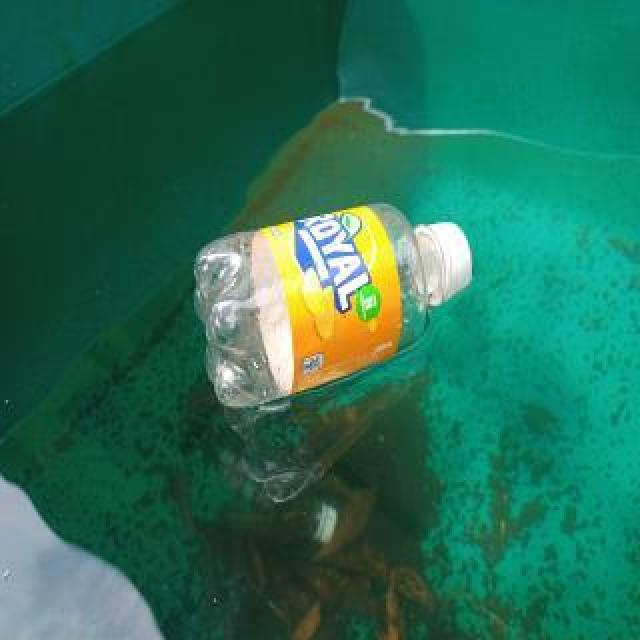bottle: (189, 194, 479, 412)
